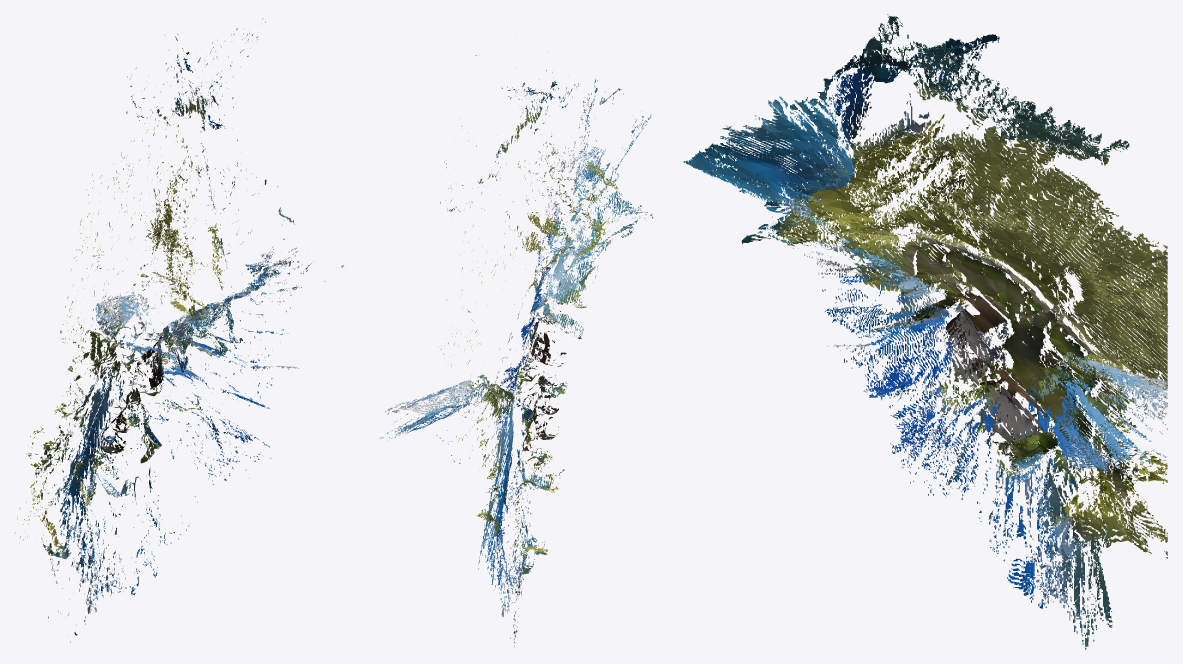
Rendered from hunyuan_scene_001_module_architecture.glb.
The picture shows the model from 3 angles, left to right: view 1: azimuth 30°, elevation 25°; view 2: azimuth 150°, elevation 25°; view 3: azimuth 270°, elevation 25°; orthographic projection. The views are drawn at different scales.
Parts seen in each view (by area): view 1: hunyuan_scene_001_module_architecture; view 2: hunyuan_scene_001_module_architecture; view 3: hunyuan_scene_001_module_architecture.
Part boxes in pixels (x1,y1,x2,y2): hunyuan_scene_001_module_architecture: (15,19,343,642); hunyuan_scene_001_module_architecture: (380,55,652,646); hunyuan_scene_001_module_architecture: (683,14,1168,649).
Size of the model in its own units: 8.1 by 31.57 by 20.28.
